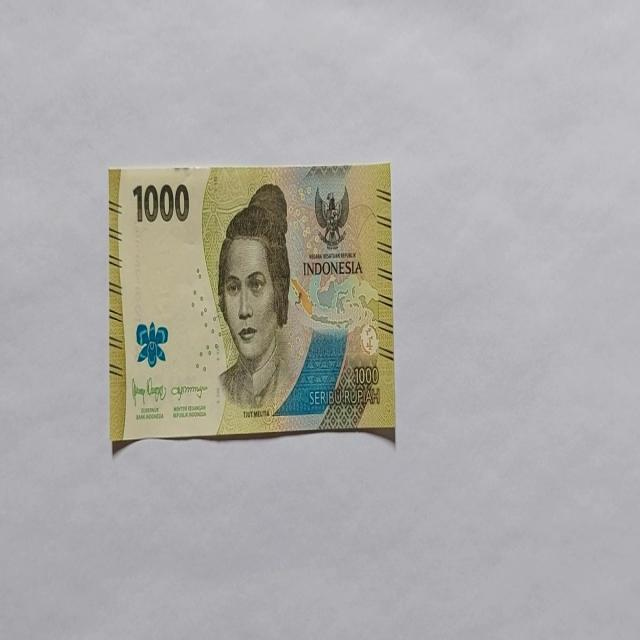seribu rupiah kertas: (108, 162, 394, 446)
